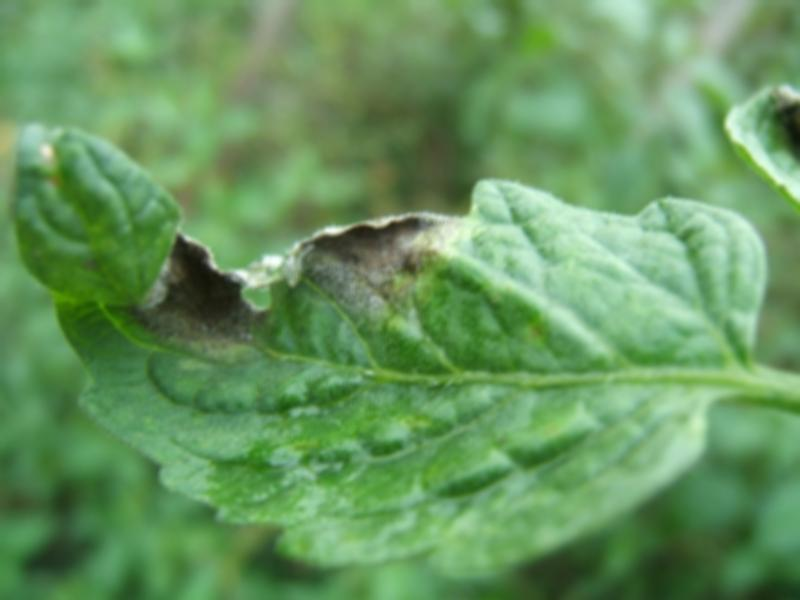Tomato leaf late blight: (27, 157, 769, 584)
